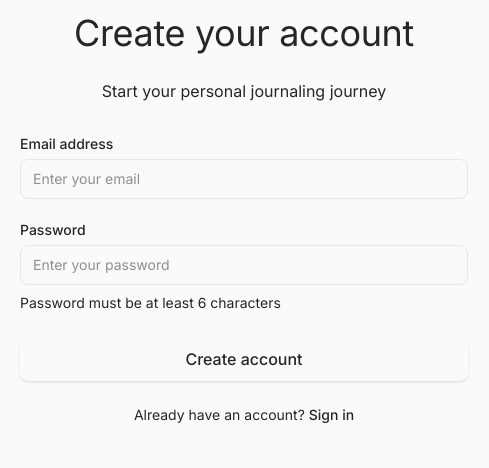
Test: AuthForm › Signup Mode › handles signup error
Type "test@example.com" into the field labelled "Email address" at (244, 179), box [20,159,468,199]
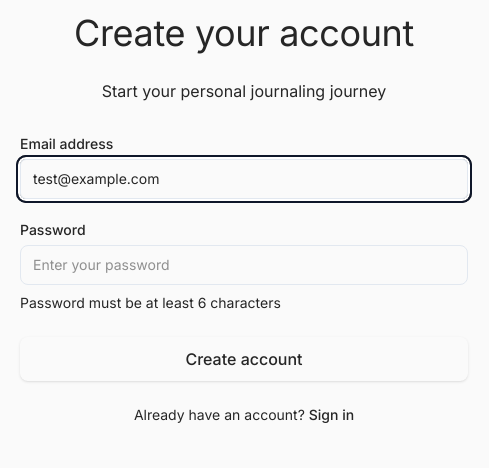
Type "password123" into the password field labelled "Password" at (244, 265), box [20,245,468,285]
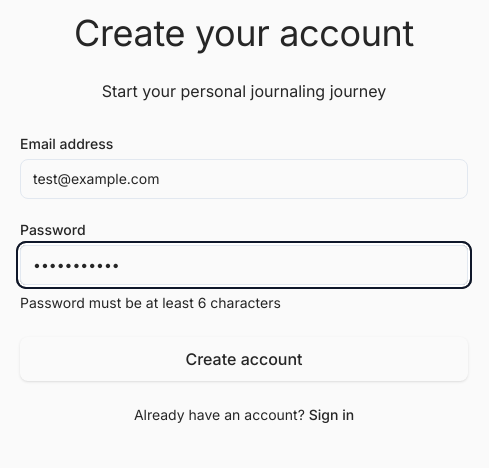
Click the button "Create account" at (244, 359), box [20,337,468,381]
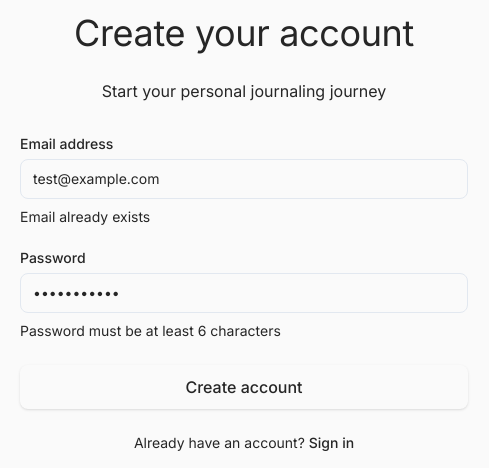
Expected: the text "Email already exists" is shown, [20,208,150,225]
